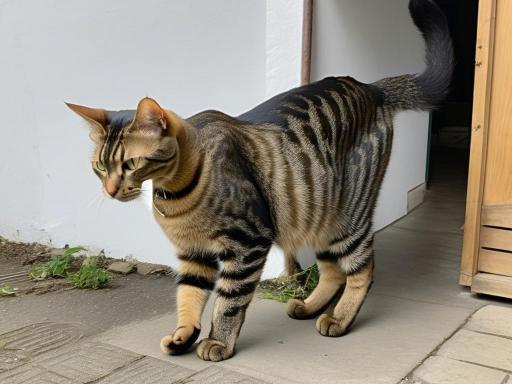cat_standing: (66, 0, 453, 361)
